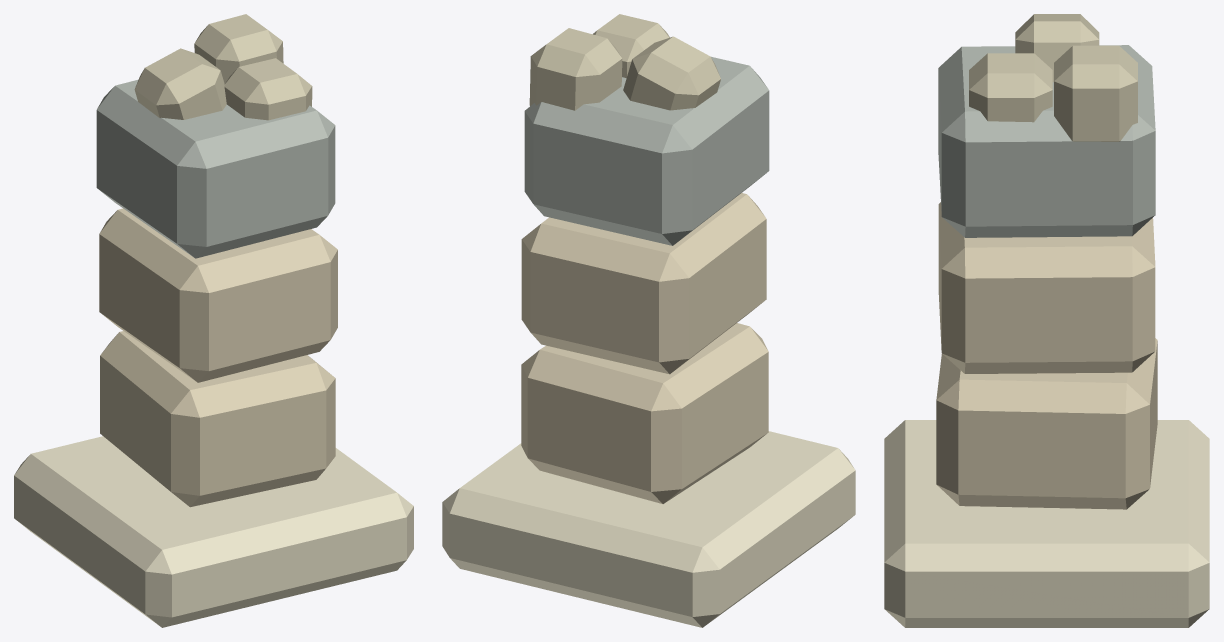
The model's file is pillar_broken.glb.
3 views of the same model, side by side, from view 1: azimuth 30°, elevation 25°; view 2: azimuth 150°, elevation 25°; view 3: azimuth 270°, elevation 25° (orthographic). The views are drawn at different scales.
Parts seen in each view (by area): view 1: pillar_broken; view 2: pillar_broken; view 3: pillar_broken.
Boxes of the visible parts, x1,y1,x2,y2 form: pillar_broken: (14,14,413,627); pillar_broken: (442,14,855,627); pillar_broken: (884,14,1209,627).
Bounding box in the file's own units: 0.72 × 1.27 × 0.7.
